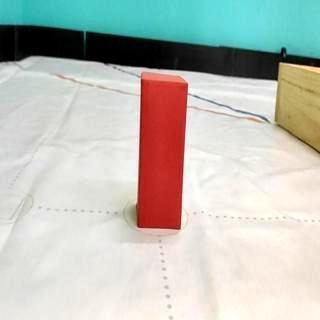redbox: (138, 74, 188, 230)
